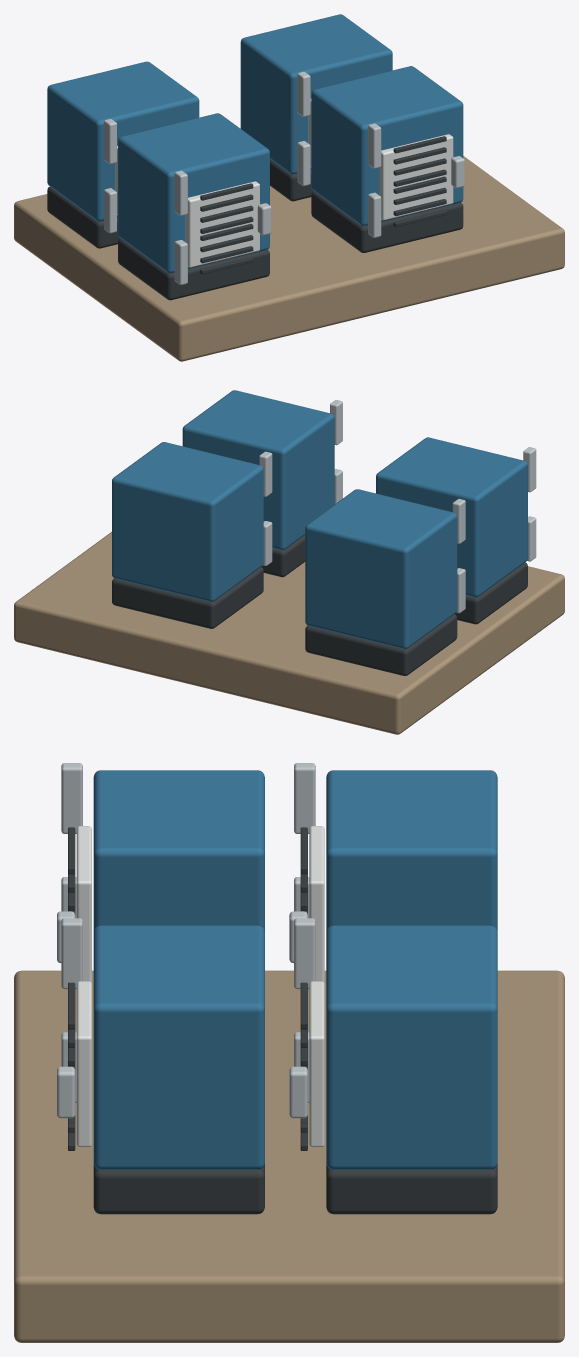
The model's file is recycling-centre-and-material-sorting-electronics-coll-83a0174e__31137.glb.
The picture shows the model from 3 angles, top to bottom: view 1: azimuth 30°, elevation 25°; view 2: azimuth 150°, elevation 25°; view 3: azimuth 270°, elevation 25°; orthographic projection. The views are drawn at different scales.
Parts seen in each view (by area): view 1: electronics-collection-pallet; view 2: electronics-collection-pallet; view 3: electronics-collection-pallet.
Boxes of the visible parts, <box> form: electronics-collection-pallet: <box>14,14,564,361</box>; electronics-collection-pallet: <box>14,390,564,734</box>; electronics-collection-pallet: <box>14,763,564,1342</box>.
Size of the model in its own units: 1.2 by 0.5136 by 0.9.
